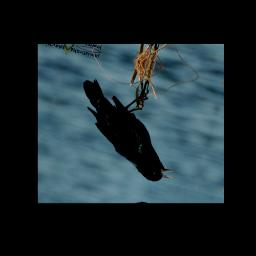Crow: (64, 73, 194, 186)
